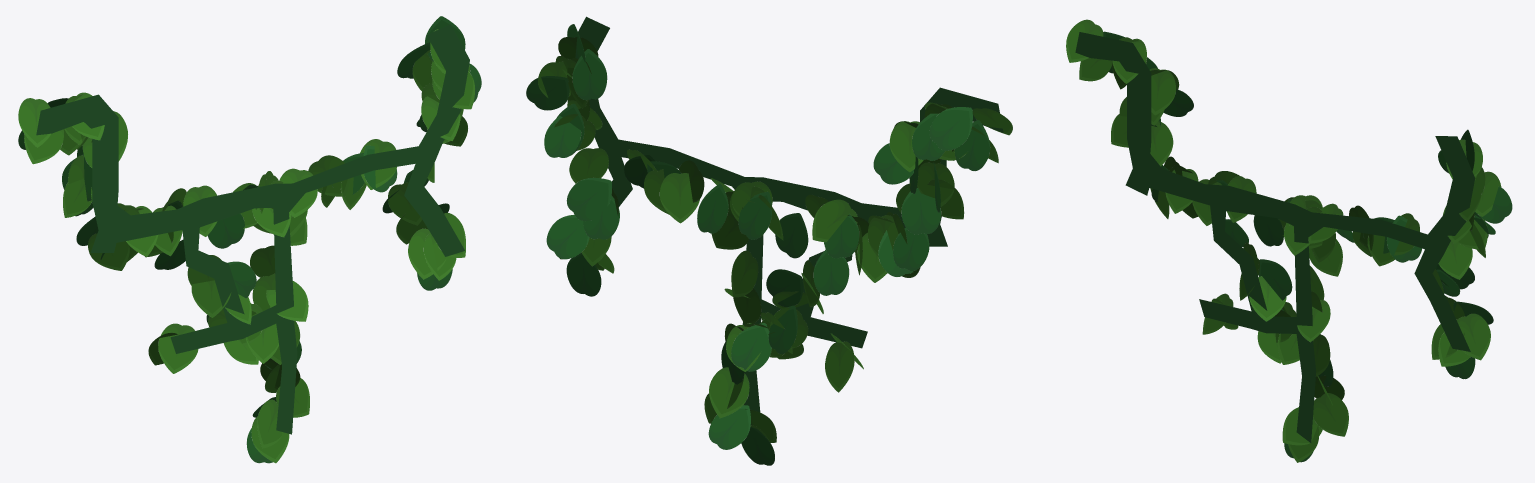
The model's file is SM_vines.fbx.
3 views of the same model, side by side, from view 1: azimuth 30°, elevation 25°; view 2: azimuth 150°, elevation 25°; view 3: azimuth 330°, elevation 25° (orthographic). The views are drawn at different scales.
Parts seen in each view (by area): view 1: Plane; view 2: Plane; view 3: Plane.
Boxes of the visible parts, x1=… form: Plane: x1=18, y1=16, x2=481, y2=463; Plane: x1=526, y1=16, x2=1012, y2=465; Plane: x1=1066, y1=19, x2=1512, y2=462.
Bounding box in the file's own units: 2.76 × 0.364 × 2.3.
Materials: 1 (1 with a texture image).
